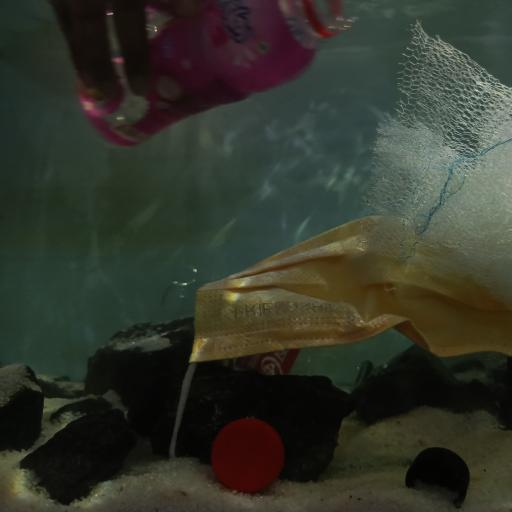bottle_cap: (213, 421, 286, 491), (406, 447, 471, 508)
mask: (177, 212, 512, 389)
net: (352, 19, 512, 312)
plastic_bottle: (74, 0, 358, 152), (158, 264, 377, 392)
